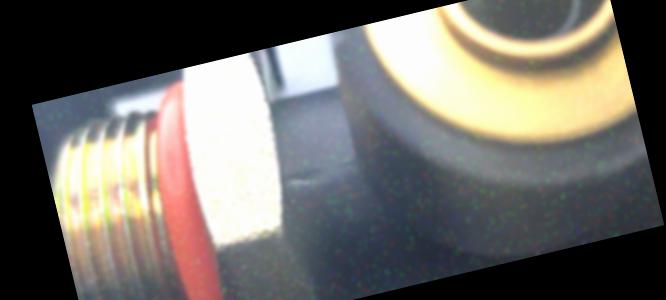joint line: (286, 155, 356, 179)
white mark: (284, 172, 323, 189)
